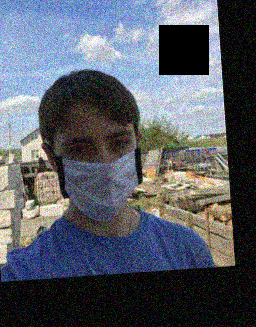with_mask: (54, 117, 143, 222)
